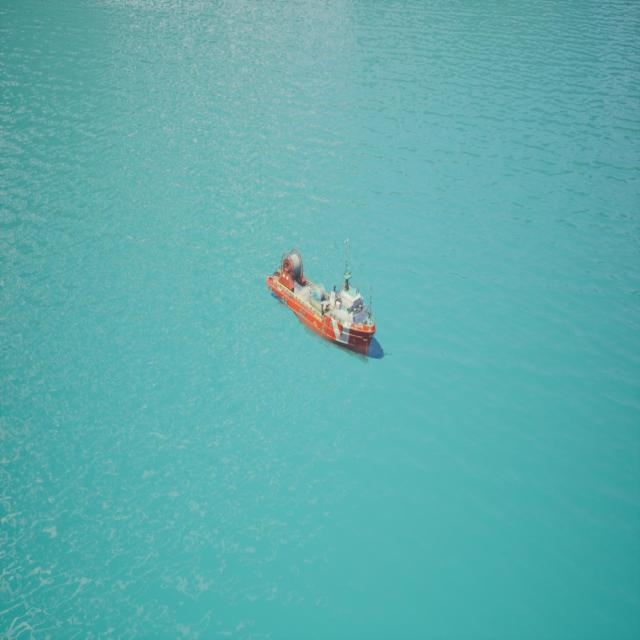tug boat: (266, 260, 383, 365)
